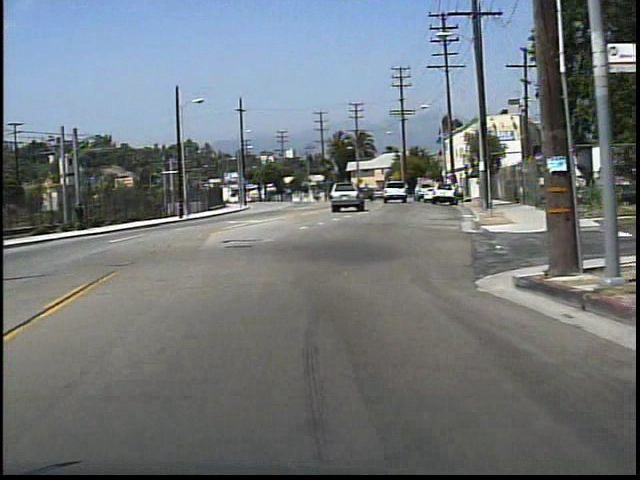person: (76, 198, 91, 232)
